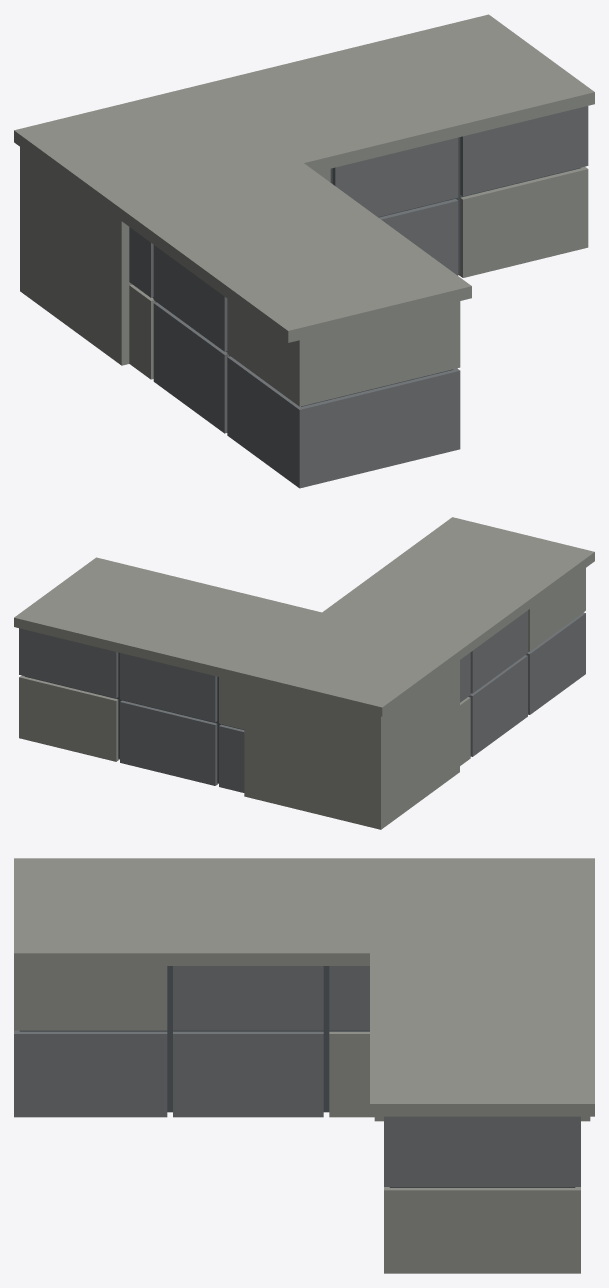
Rendered from 327_stone_foundation_corner_l.fbx.
3 renders of one model, top to bottom at view 1: azimuth 30°, elevation 25°; view 2: azimuth 150°, elevation 25°; view 3: azimuth 270°, elevation 25°, orthographic. The views are drawn at different scales.
Visible parts, largest first — view 1: 327_stone_foundation_corner_l; view 2: 327_stone_foundation_corner_l; view 3: 327_stone_foundation_corner_l.
Boxes of the visible parts, x1,y1,x2,y2 form: 327_stone_foundation_corner_l: (14,14,594,488); 327_stone_foundation_corner_l: (14,517,594,829); 327_stone_foundation_corner_l: (14,858,594,1273).
Bounding box in the file's own units: 1.24 × 0.4 × 1.24.
Materials: 1 (1 with a texture image).
